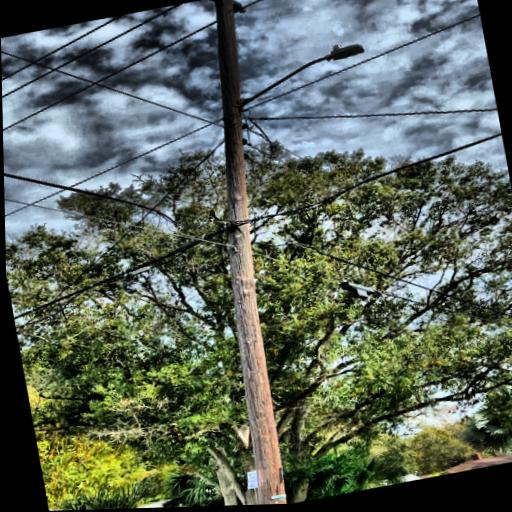pole: (128, 0, 346, 508)
street light: (225, 37, 372, 112)
